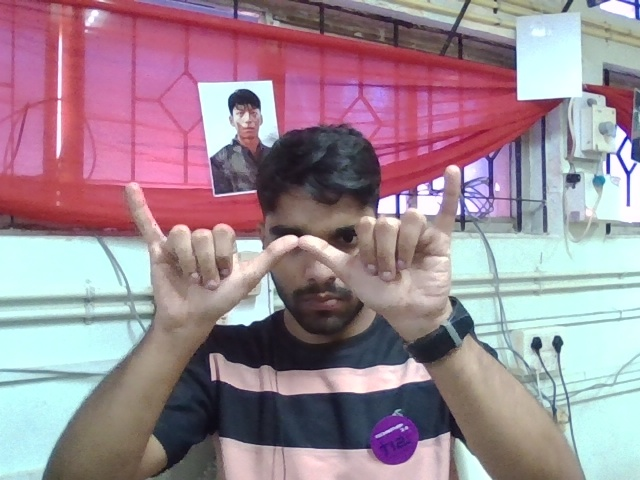play: (111, 154, 496, 357)
